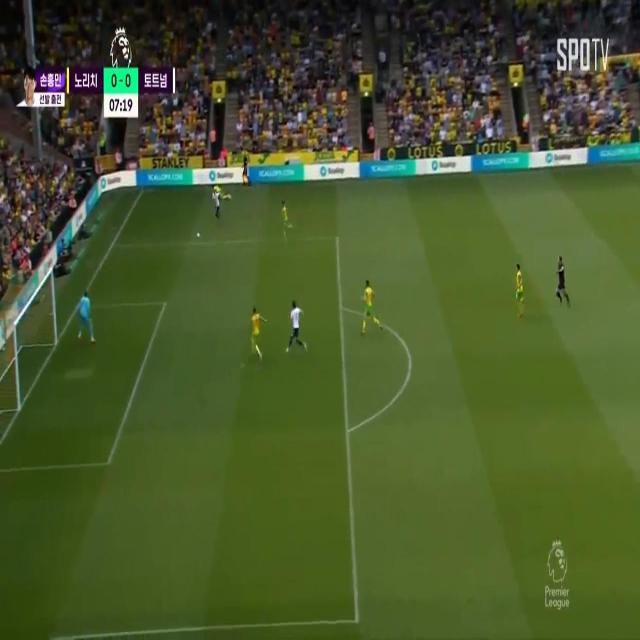ball: (195, 231, 202, 243)
player: (512, 255, 528, 319), (246, 302, 264, 358), (286, 297, 306, 347), (362, 276, 376, 334), (279, 200, 293, 238), (214, 184, 235, 207), (212, 192, 225, 217)
referee: (552, 255, 570, 309), (240, 154, 252, 189)
